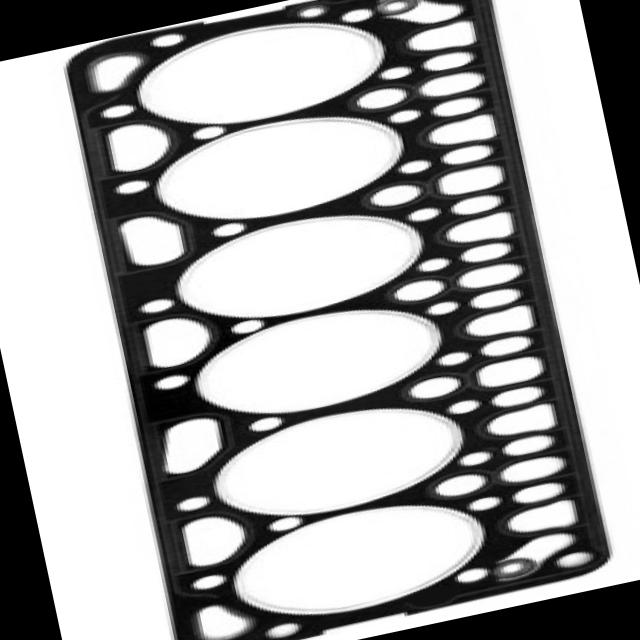missing hole: (384, 577, 472, 620)
